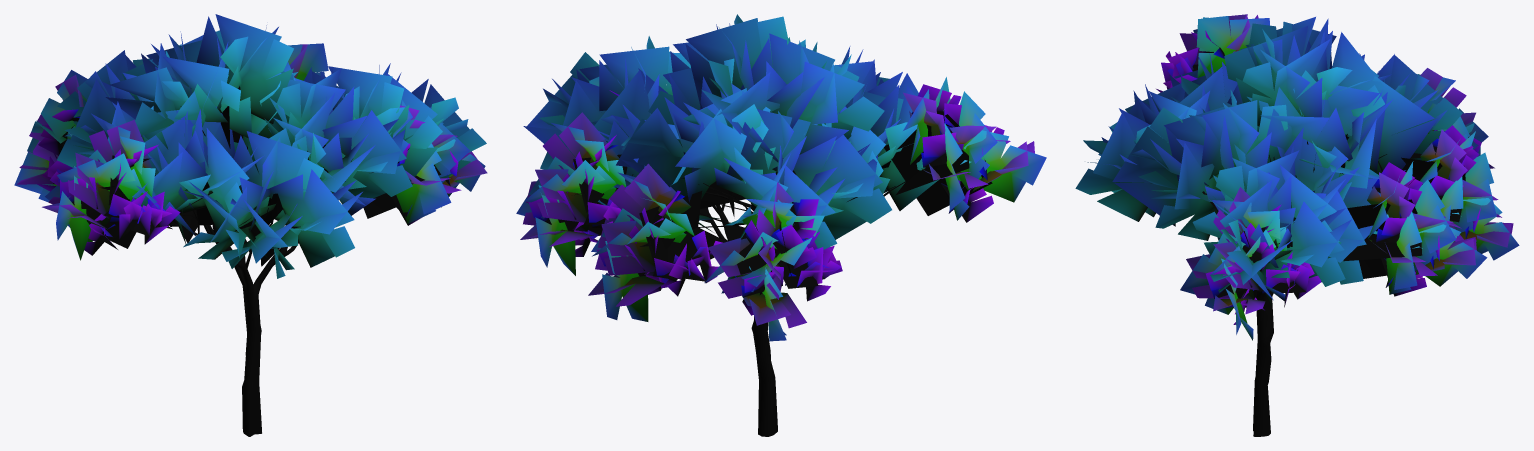
File: scots_pine_1.dae
3 renders of one model, left to right at view 1: azimuth 30°, elevation 25°; view 2: azimuth 150°, elevation 25°; view 3: azimuth 270°, elevation 25°, orthographic. The views are drawn at different scales.
Parts seen in each view (by area): view 1: scots_pine_003; view 2: scots_pine_003; view 3: scots_pine_003.
Boxes of the visible parts, x1,y1,x2,y2 form: scots_pine_003: (14, 14, 487, 436); scots_pine_003: (516, 14, 1046, 436); scots_pine_003: (1075, 14, 1519, 436).
Size of the model in its own units: 13.34 by 11.28 by 11.13.
